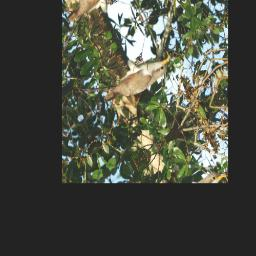Cuckoo: (92, 26, 177, 118)
